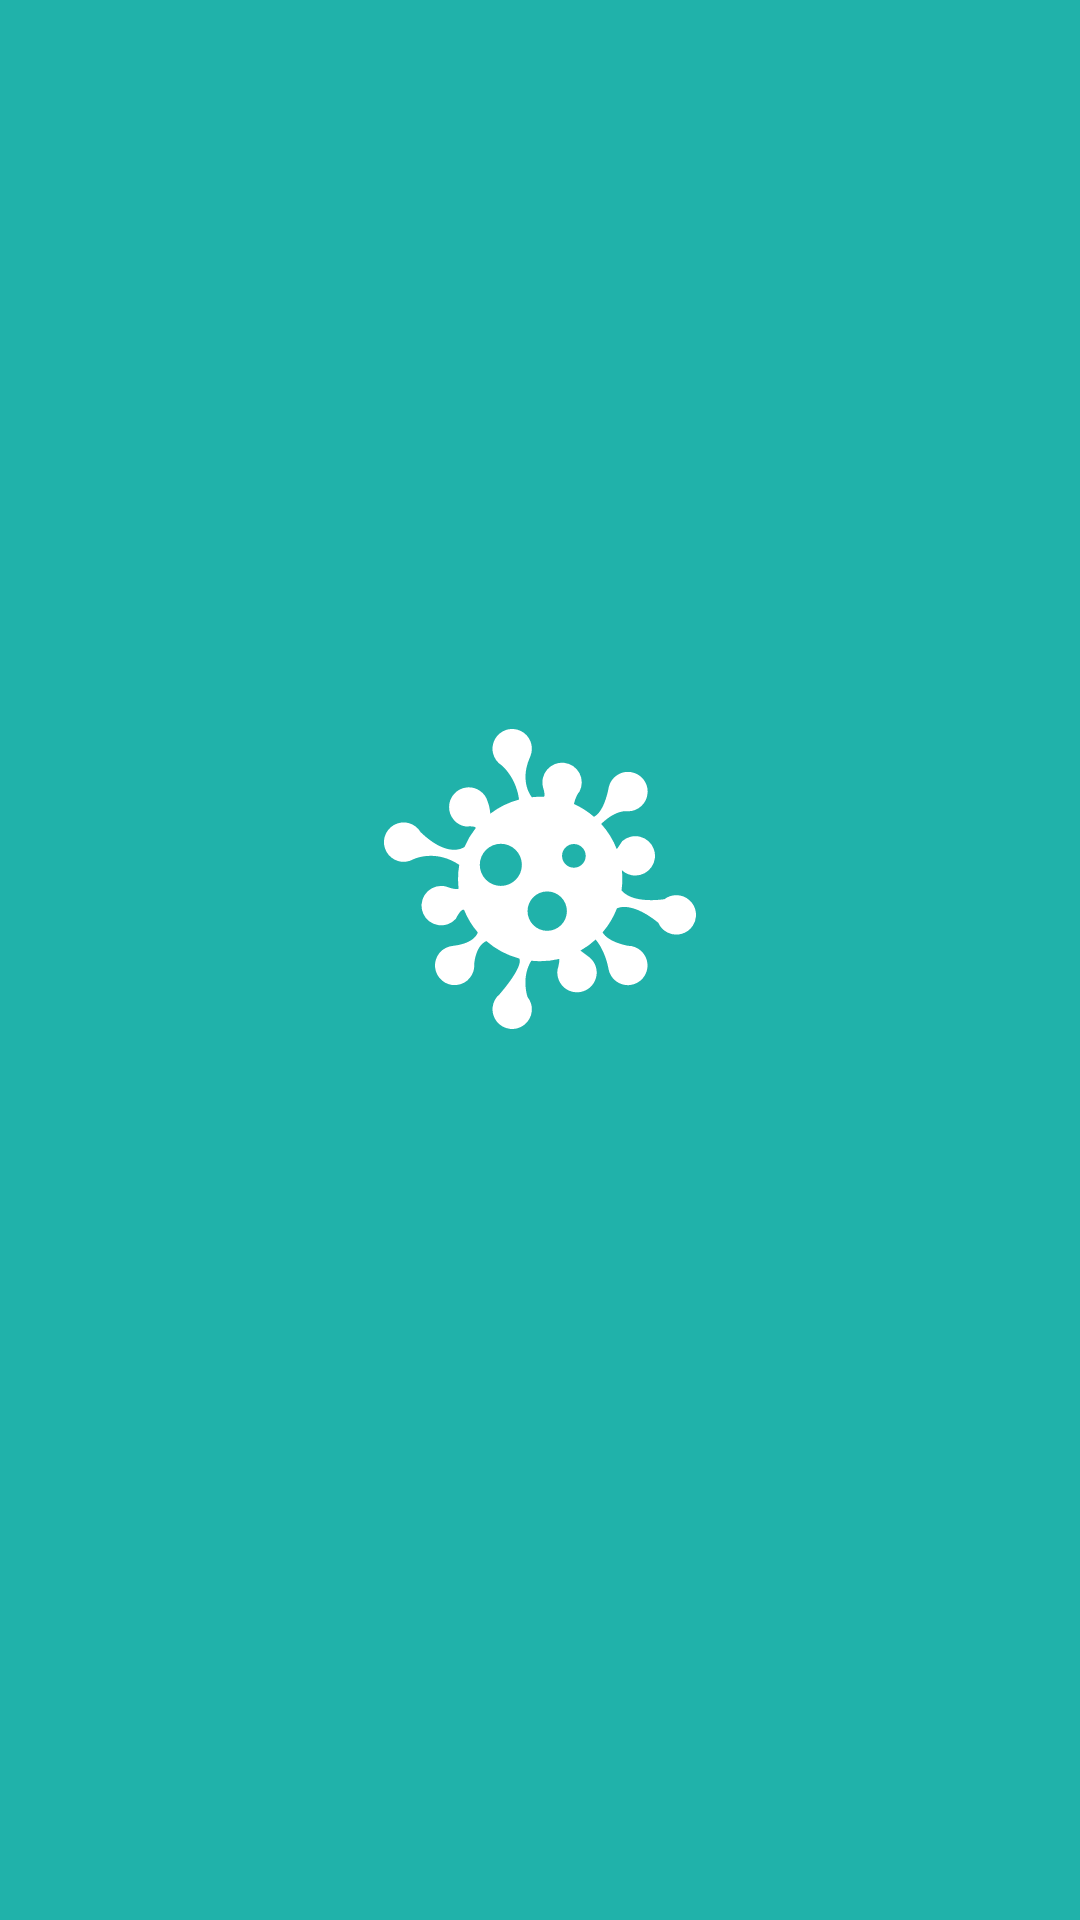

Screen size 1080px x 1920px. Icon name, then its box in pixels as bbox(x1, y1, x2, y2):
covidoo: bbox(384, 729, 696, 1029)
